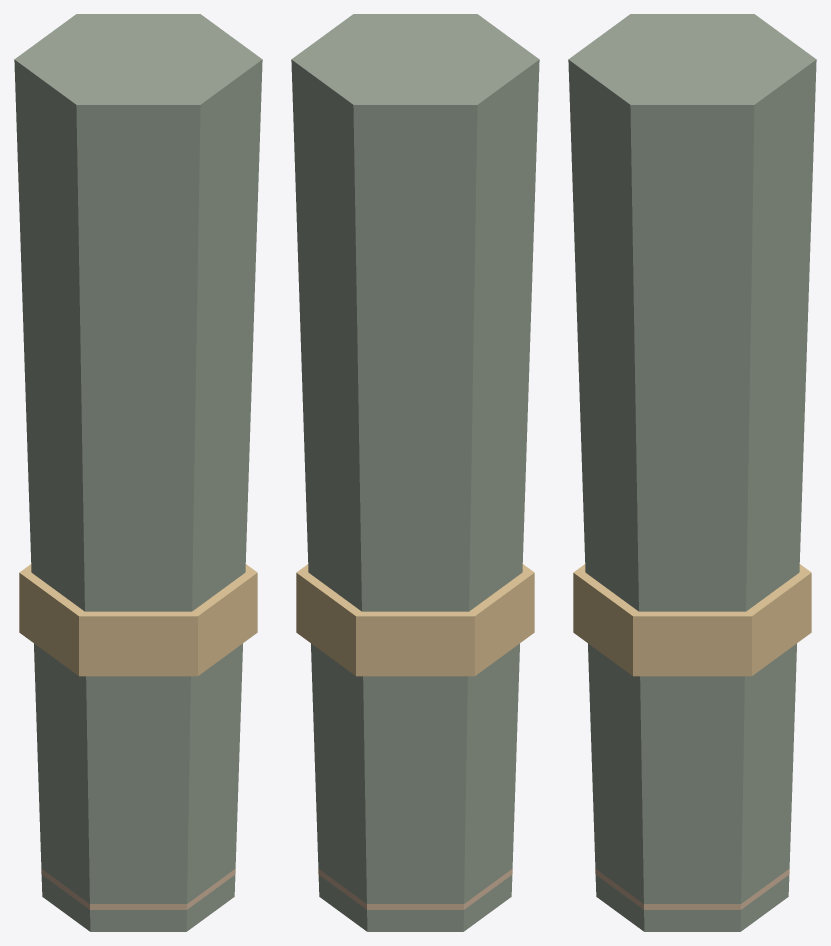
File: npc_arm_02.glb
3 views of the same model, side by side, from view 1: azimuth 30°, elevation 25°; view 2: azimuth 150°, elevation 25°; view 3: azimuth 270°, elevation 25° (orthographic).
Visible parts, largest first — view 1: npc_arm_02; view 2: npc_arm_02; view 3: npc_arm_02.
Boxes of the visible parts, x1=… form: npc_arm_02: x1=14, y1=14, x2=262, y2=931; npc_arm_02: x1=291, y1=14, x2=539, y2=931; npc_arm_02: x1=568, y1=14, x2=816, y2=931.
Bounding box in the file's own units: 0.1136 × 0.5018 × 0.1312.
